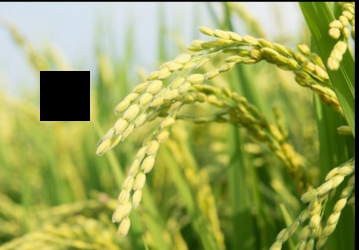rice: (90, 12, 337, 234)
